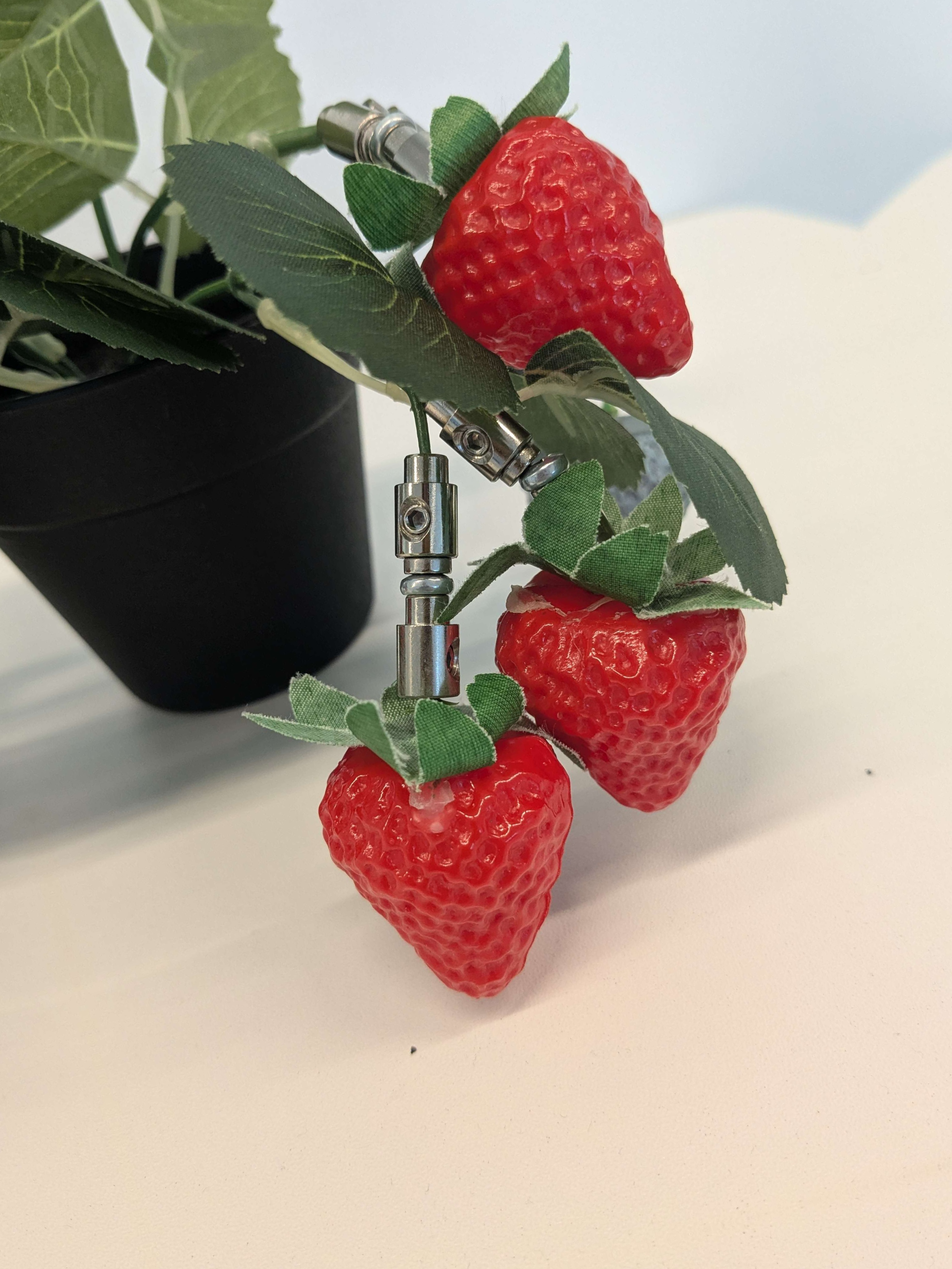Strawberry: (352, 49, 743, 444), (458, 471, 823, 869), (282, 672, 636, 1063)
